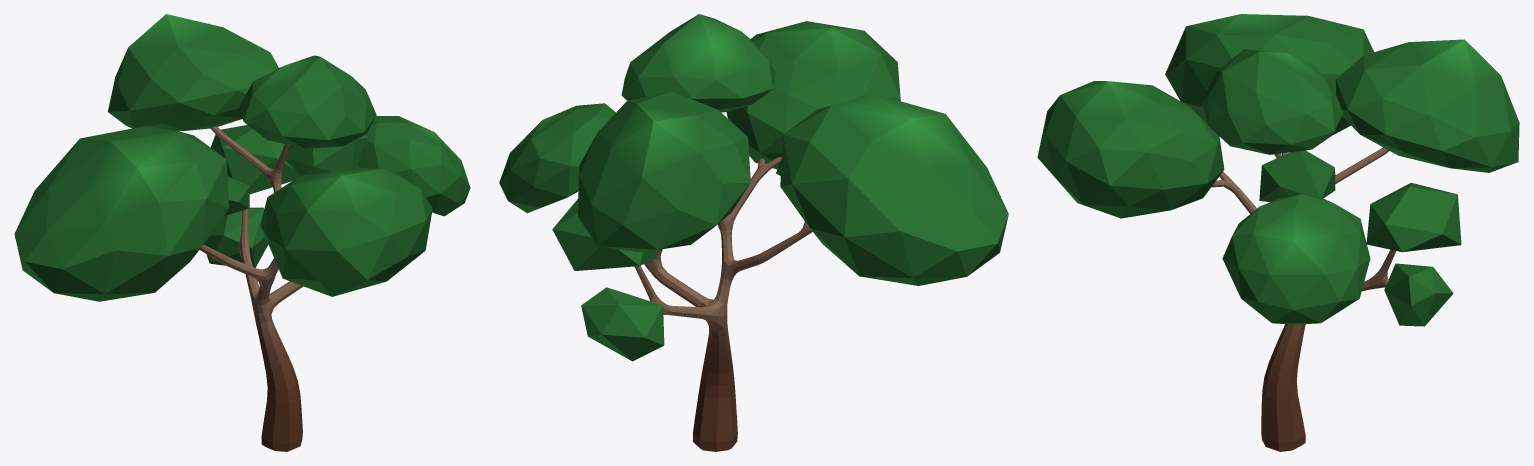
Rendered from tree_4_2.fbx.
3 views of the same model, side by side, from view 1: azimuth 30°, elevation 25°; view 2: azimuth 150°, elevation 25°; view 3: azimuth 270°, elevation 25° (orthographic). The views are drawn at different scales.
Parts seen in each view (by area): view 1: tree_4_2; view 2: tree_4_2; view 3: tree_4_2.
Boxes of the visible parts, x1,y1,x2,y2 form: tree_4_2: [14, 14, 470, 451]; tree_4_2: [499, 14, 1008, 451]; tree_4_2: [1037, 14, 1519, 451].
Bounding box in the file's own units: 7.42 × 6.69 × 6.25.
